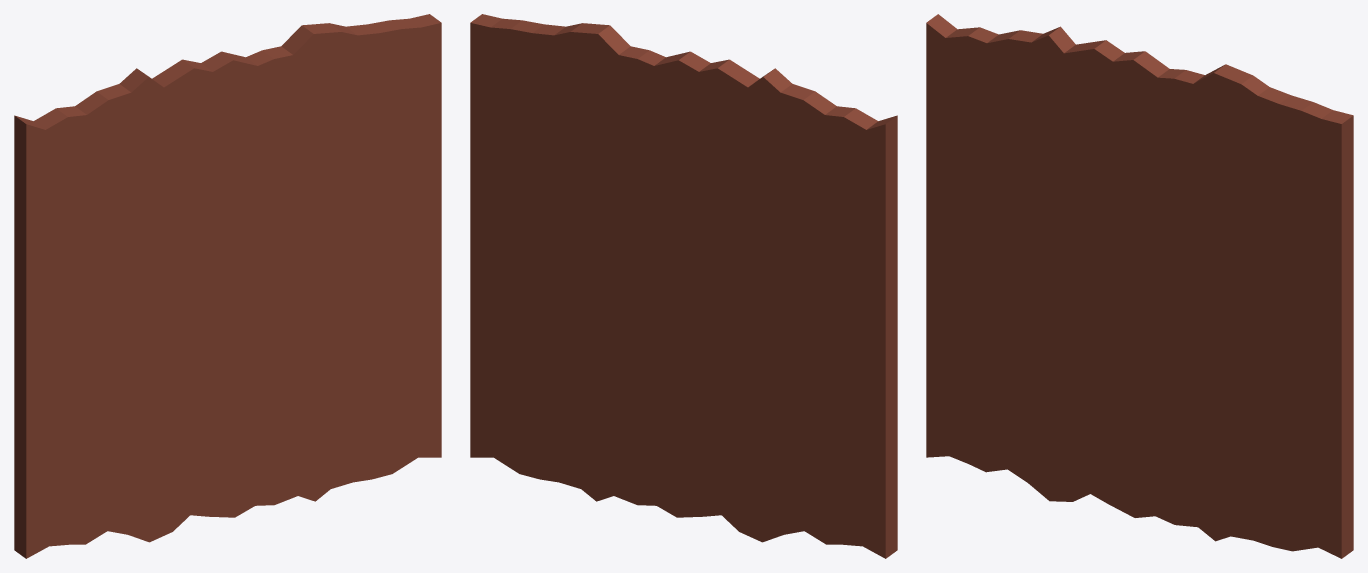
File: Tile05.glb
3 views of the same model, side by side, from view 1: azimuth 30°, elevation 25°; view 2: azimuth 150°, elevation 25°; view 3: azimuth 330°, elevation 25° (orthographic).
Parts seen in each view (by area): view 1: 05; view 2: 05; view 3: 05.
Boxes of the visible parts, x1=… form: 05: x1=14, y1=14, x2=441, y2=558; 05: x1=470, y1=14, x2=897, y2=558; 05: x1=926, y1=14, x2=1353, y2=558.
Size of the model in its own units: 2 by 2.15 by 0.1.
Materials: 1 (1 with a texture image).
